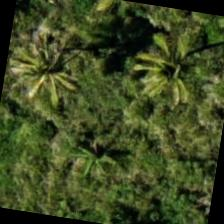Kelapa_Sawit: (106, 32, 210, 136), (8, 26, 110, 128)
